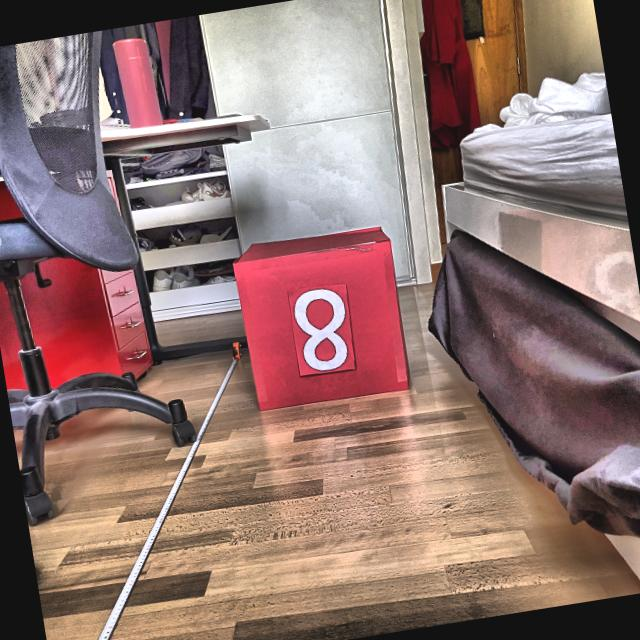eight: (291, 283, 355, 375)
red box: (232, 221, 414, 412)
